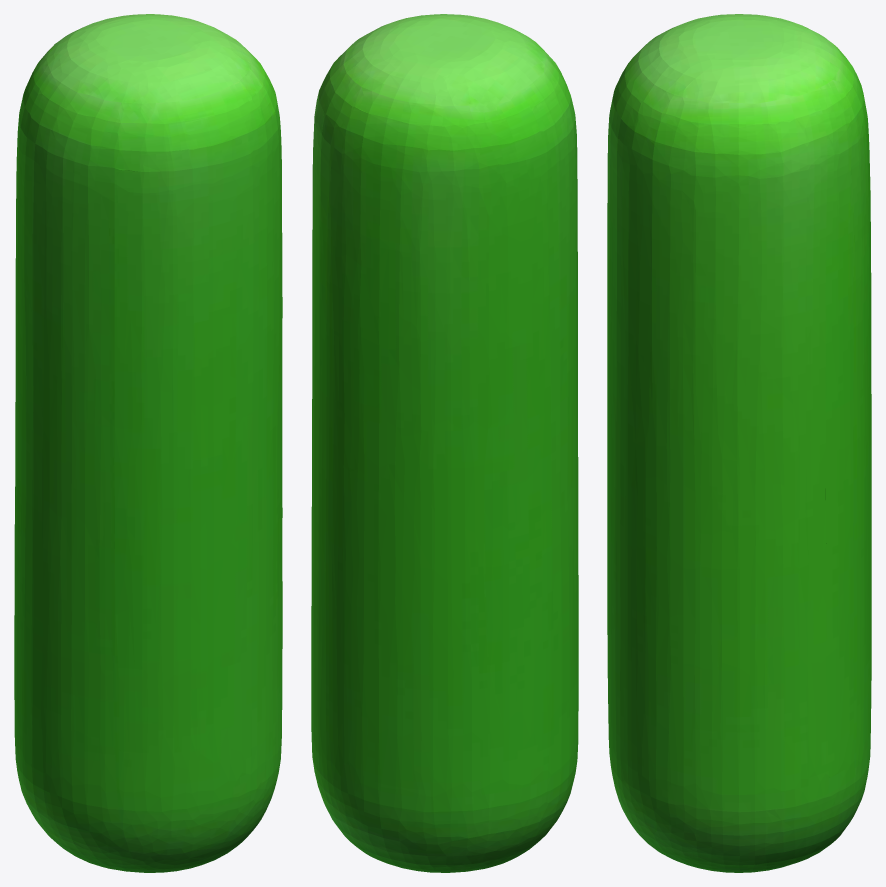
The picture shows the model from 3 angles, left to right: view 1: azimuth 30°, elevation 25°; view 2: azimuth 150°, elevation 25°; view 3: azimuth 270°, elevation 25°; orthographic projection.
Parts seen in each view (by area): view 1: geometry_0; view 2: geometry_0; view 3: geometry_0.
Boxes of the visible parts, x1,y1,x2,y2 form: geometry_0: (14, 14, 282, 872); geometry_0: (311, 14, 578, 872); geometry_0: (607, 14, 871, 872).
Size of the model in its own units: 0.3011 by 0.9997 by 0.2966.
Materials: 1 (1 with a texture image).
